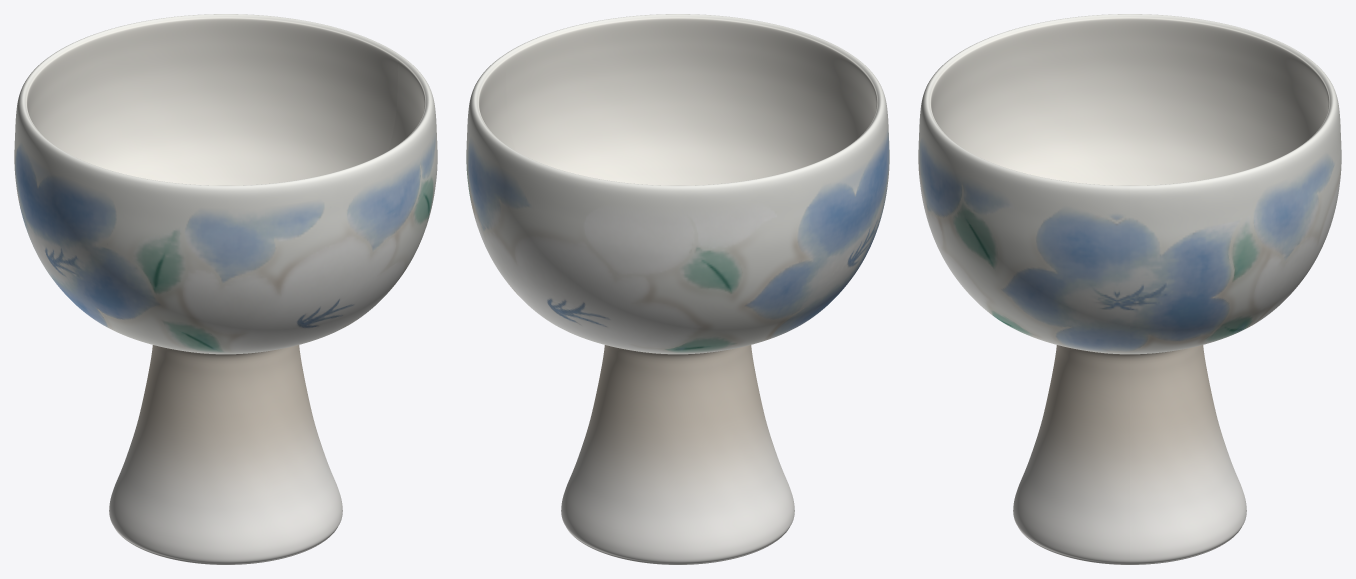
The model's file is sori-60th-doraji.glb.
3 views of the same model, side by side, from view 1: azimuth 30°, elevation 25°; view 2: azimuth 150°, elevation 25°; view 3: azimuth 270°, elevation 25° (orthographic).
Visible parts, largest first — view 1: 01 Sori dessert goblet · hand-profiled hollow clay; view 2: 01 Sori dessert goblet · hand-profiled hollow clay; view 3: 01 Sori dessert goblet · hand-profiled hollow clay.
Part boxes in pixels (bbox=[...]): 01 Sori dessert goblet · hand-profiled hollow clay: bbox=[14, 14, 437, 564]; 01 Sori dessert goblet · hand-profiled hollow clay: bbox=[466, 14, 889, 564]; 01 Sori dessert goblet · hand-profiled hollow clay: bbox=[918, 14, 1341, 564].
Size of the model in its own units: 1.89 by 2.05 by 1.89.
Materials: 1 (1 with a texture image).
